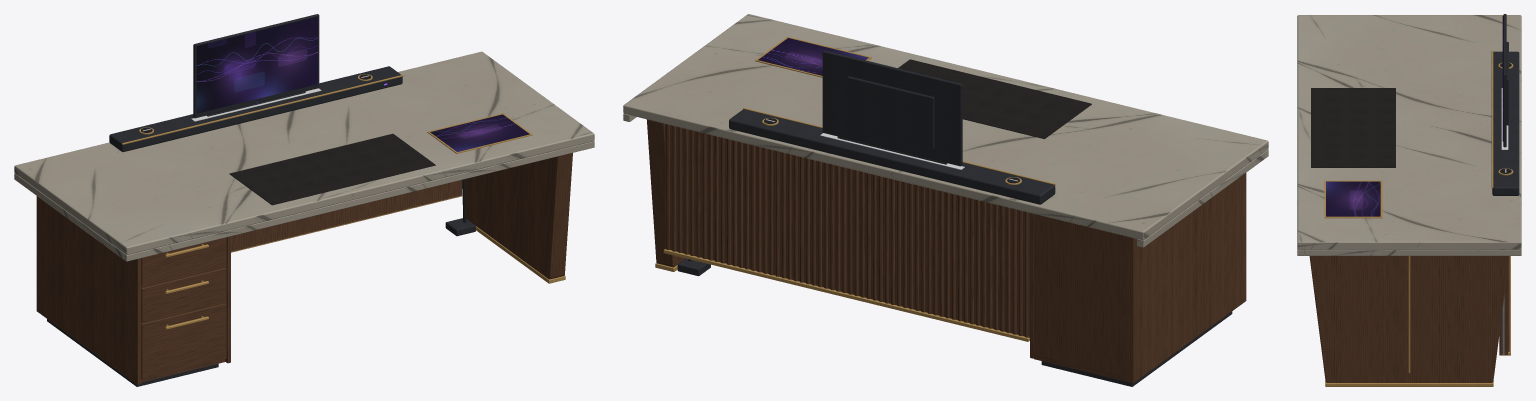
The model's file is ceo_desk.glb.
3 views of the same model, side by side, from view 1: azimuth 30°, elevation 25°; view 2: azimuth 150°, elevation 25°; view 3: azimuth 270°, elevation 25° (orthographic). The views are drawn at different scales.
Parts seen in each view (by area): view 1: top_stone_marble_honed_0, pedestal_wood_walnut_0, leg_l_wood_walnut_0, monitor_glass_screen_0, pad_leather_black_0, drawer_3_wood_walnut_0, spine_graphite_0, modesty_wood_walnut_1, top_stone_marble_honed_1, drawer_2_wood_walnut_0, drawer_1_wood_walnut_0, touch_screen_1 (+5 smaller); view 2: top_stone_marble_honed_0, modesty_wood_walnut_0, pedestal_wood_walnut_0, pedestal_wood_walnut_4, monitor_graphite_0, spine_graphite_0, pad_leather_black_0, monitor_graphite_1, leg_l_wood_walnut_0, modesty_brass_62, touch_screen_1, top_stone_marble_honed_3 (+43 smaller); view 3: top_stone_marble_honed_0, leg_l_wood_walnut_0, pad_leather_black_0, spine_graphite_0, touch_screen_1, top_stone_marble_honed_2, leg_l_brass_1, monitor_graphite_0, touch_brass_0, spine_brass_1, leg_l_brass_2, modesty_wood_walnut_0 (+4 smaller).
Part boxes in pixels (<box>): top_stone_marble_honed_0: <box>14,51,594,254</box>; pedestal_wood_walnut_0: <box>36,196,141,384</box>; leg_l_wood_walnut_0: <box>465,153,572,279</box>; monitor_glass_screen_0: <box>196,16,317,113</box>; pad_leather_black_0: <box>229,133,435,205</box>; drawer_3_wood_walnut_0: <box>141,303,226,379</box>; spine_graphite_0: <box>109,66,402,151</box>; modesty_wood_walnut_1: <box>231,180,462,251</box>; top_stone_marble_honed_1: <box>123,141,594,261</box>; drawer_2_wood_walnut_0: <box>141,267,226,323</box>; drawer_1_wood_walnut_0: <box>141,237,226,287</box>; touch_screen_1: <box>430,114,529,151</box>; top_stone_marble_honed_0: <box>623,14,1268,240</box>; modesty_wood_walnut_0: <box>665,124,1029,337</box>; pedestal_wood_walnut_0: <box>1130,173,1246,382</box>; pedestal_wood_walnut_4: <box>1034,214,1129,377</box>; monitor_graphite_0: <box>822,50,962,166</box>; spine_graphite_0: <box>729,109,1055,204</box>; pad_leather_black_0: <box>898,59,1091,138</box>; monitor_graphite_1: <box>847,76,934,149</box>; leg_l_wood_walnut_0: <box>646,119,685,267</box>; modesty_brass_62: <box>663,249,1029,341</box>; touch_screen_1: <box>758,38,868,75</box>; top_stone_marble_honed_3: <box>1137,152,1264,247</box>; top_stone_marble_honed_0: <box>1297,15,1521,249</box>; leg_l_wood_walnut_0: <box>1309,256,1509,382</box>; pad_leather_black_0: <box>1311,88,1395,167</box>; spine_graphite_0: <box>1492,51,1519,195</box>; touch_screen_1: <box>1326,181,1380,216</box>; top_stone_marble_honed_2: <box>1304,249,1521,255</box>; leg_l_brass_1: <box>1325,381,1493,386</box>; monitor_graphite_0: <box>1503,14,1506,147</box>; touch_brass_0: <box>1324,180,1382,218</box>; spine_brass_1: <box>1491,50,1493,188</box>; leg_l_brass_2: <box>1408,256,1410,372</box>; modesty_wood_walnut_0: <box>1504,269,1507,354</box>.
Size of what is drawn, in the model's own units: 2.4 by 1.16 by 1.
18 materials, 15 textured.
